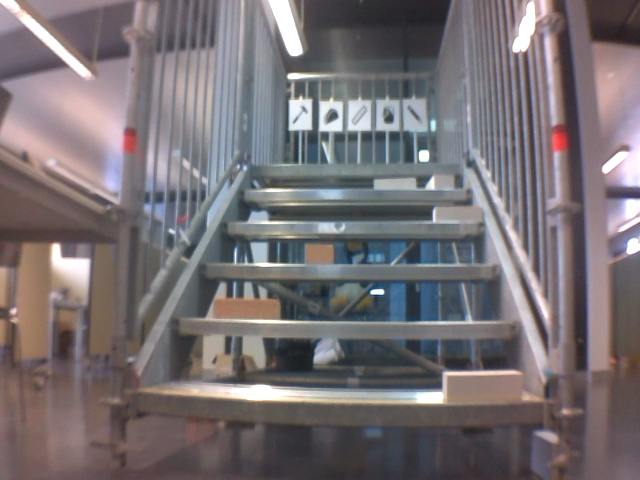brick: (442, 371, 522, 402), (214, 299, 280, 320), (433, 207, 481, 221), (304, 245, 332, 264), (375, 178, 416, 189), (429, 175, 453, 188)
bucket: (379, 104, 396, 125)
edge: (139, 392, 544, 427), (174, 319, 520, 338), (201, 263, 501, 279), (222, 220, 485, 234), (237, 188, 476, 200), (250, 163, 462, 175)
hammer: (288, 103, 309, 127)
pencil: (405, 103, 425, 126)
ruler: (349, 103, 370, 128)
stairs: (104, 1, 580, 476)
steps: (137, 159, 548, 432)
taco: (322, 105, 340, 126)
